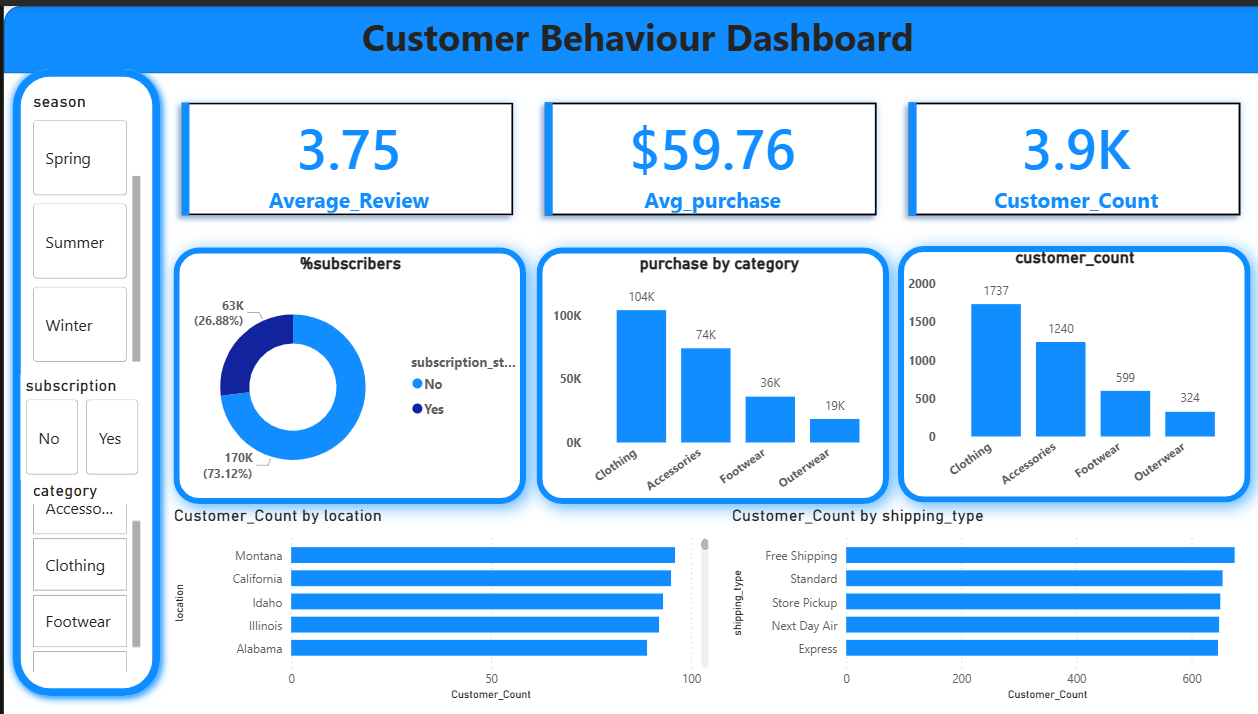

What the dashboard file says about the page in this screenshot:
{"tool":"powerbi","page":{"name":"Page 1","canvas":[1280,720],"ordinal":0},"visuals":[{"type":"cardVisual","fields":{"Data":["customer_behaviour cleaned_dataset.Average_Review","customer_behaviour cleaned_dataset.Avg_purchase","customer_behaviour cleaned_dataset.Customer_Count"]},"box":[149.9,68.1,1129.6,172.6],"z":0},{"type":"shape","box":[0,0,1279.5,68.1],"z":1000},{"type":"textbox","box":[0,0,1279.5,68.1],"z":2000},{"type":"shape","box":[149.9,222.6,398.2,301.3],"z":3000},{"type":"donutChart","title":"%subscribers","fields":{"Category":["customer_behaviour cleaned_dataset.subscription_status"],"Y":["Sum(customer_behaviour cleaned_dataset.purchase_amount)"]},"box":[166.6,249.8,366.4,249.8],"z":4000},{"type":"shape","box":[516.3,222.6,398.2,301.3],"z":5000},{"type":"shape","box":[881.3,221.1,398.2,301.3],"z":6000},{"type":"clusteredColumnChart","title":"purchase by category","fields":{"Y":["Sum(customer_behaviour cleaned_dataset.purchase_amount)"],"Category":["customer_behaviour cleaned_dataset.category"]},"box":[548.1,249.8,348.3,260.4],"z":7000},{"type":"clusteredColumnChart","title":"customer_count","fields":{"Y":["customer_behaviour cleaned_dataset.Customer_Count"],"Category":["customer_behaviour cleaned_dataset.category"]},"box":[907,243.8,348.3,260.4],"z":8000},{"type":"shape","box":[0,54.5,166.6,651.1],"z":9000},{"type":"advancedSlicerVisual","fields":{"Values":["customer_behaviour cleaned_dataset.category"]},"box":[24.2,478.5,118.1,196.8],"z":10000},{"type":"advancedSlicerVisual","fields":{"Values":["customer_behaviour cleaned_dataset.season"]},"box":[24.2,86.3,118.1,274.1],"z":10001},{"type":"advancedSlicerVisual","title":"subscription","fields":{"Values":["customer_behaviour cleaned_dataset.subscription_status"]},"box":[16.7,372.5,125.7,106],"z":10002},{"type":"clusteredBarChart","fields":{"Category":["customer_behaviour cleaned_dataset.location"],"Y":["customer_behaviour cleaned_dataset.Customer_Count"]},"box":[166.6,504.2,549.7,201.4],"z":10003},{"type":"clusteredBarChart","fields":{"Category":["customer_behaviour cleaned_dataset.shipping_type"],"Y":["customer_behaviour cleaned_dataset.Customer_Count"]},"box":[729.8,504.2,549.7,201.4],"z":10004}]}

Visuals, with their boxes in screenshot pixels (x1, y1, x2, y2), scaled from the page's 1280x720 canvas onto the 1258x714 screenshot:
cardVisual - customer_behaviour cleaned_dataset.Average_Review x customer_behaviour cleaned_dataset.Avg_purchase: region(147, 68, 1257, 239)
shape: region(0, 0, 1257, 68)
textbox: region(0, 0, 1257, 68)
shape: region(147, 221, 539, 520)
"%subscribers" donutChart: region(164, 248, 524, 495)
shape: region(507, 221, 899, 520)
shape: region(866, 219, 1257, 518)
"purchase by category" clusteredColumnChart: region(539, 248, 881, 506)
"customer_count" clusteredColumnChart: region(891, 242, 1234, 500)
shape: region(0, 54, 164, 700)
advancedSlicerVisual - customer_behaviour cleaned_dataset.category: region(24, 475, 140, 670)
advancedSlicerVisual - customer_behaviour cleaned_dataset.season: region(24, 86, 140, 357)
"subscription" advancedSlicerVisual: region(16, 369, 140, 475)
clusteredBarChart - customer_behaviour cleaned_dataset.location x customer_behaviour cleaned_dataset.Customer_Count: region(164, 500, 704, 700)
clusteredBarChart - customer_behaviour cleaned_dataset.shipping_type x customer_behaviour cleaned_dataset.Customer_Count: region(717, 500, 1257, 700)
